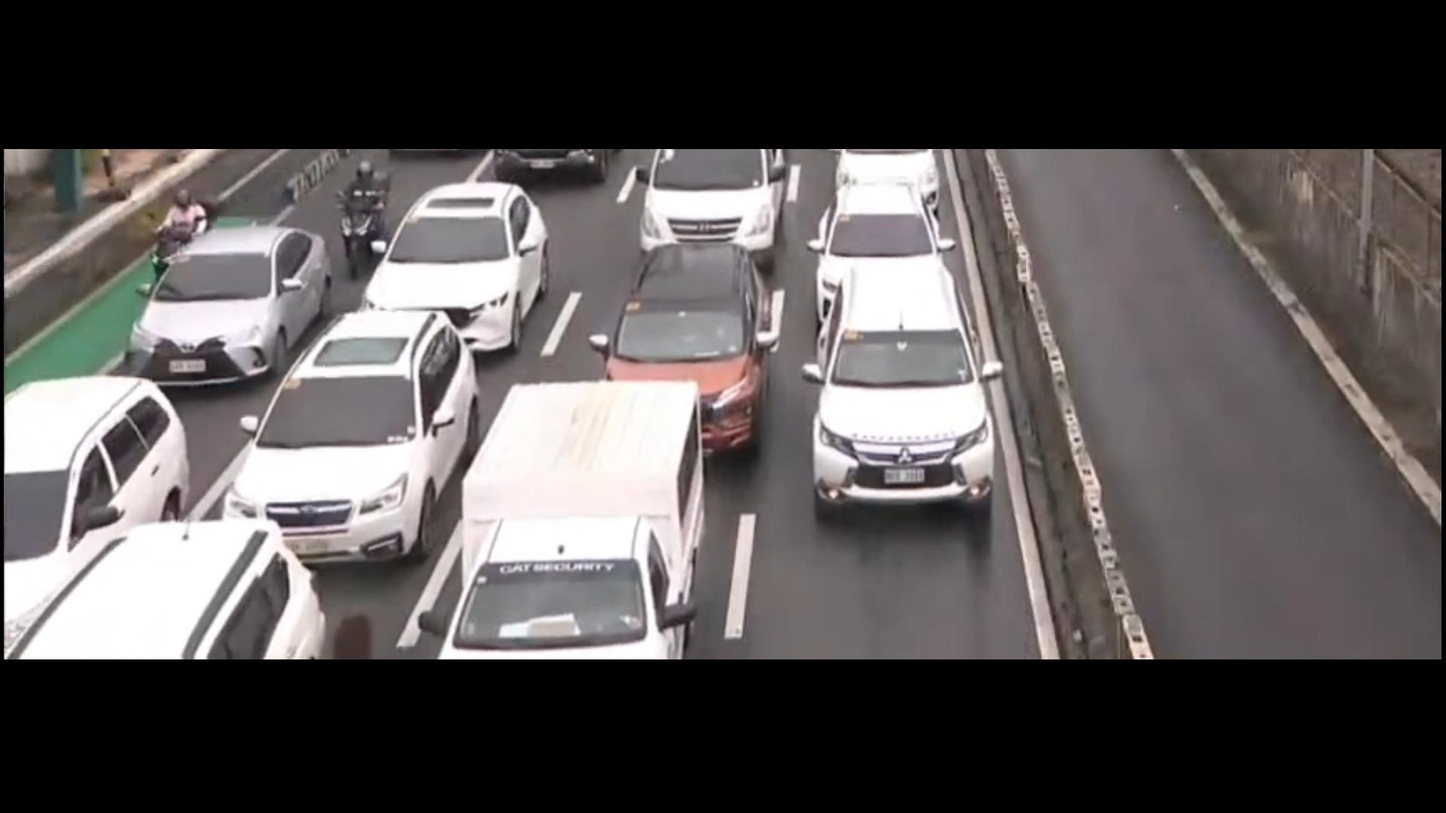Motorcycle: (325, 153, 405, 266), (148, 179, 217, 274)
SUV: (244, 315, 473, 576), (803, 260, 1006, 543), (0, 367, 187, 642), (0, 507, 337, 657), (584, 241, 793, 468)
Sedan: (104, 209, 337, 403), (366, 172, 563, 359), (813, 172, 942, 325)
Truck: (414, 365, 737, 660)
Van: (635, 140, 791, 259)
